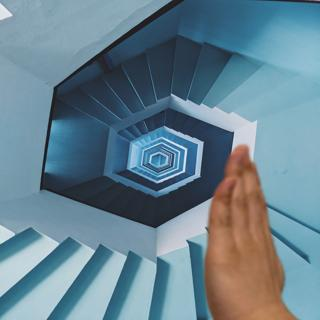RIGHT: (200, 141, 291, 320)
